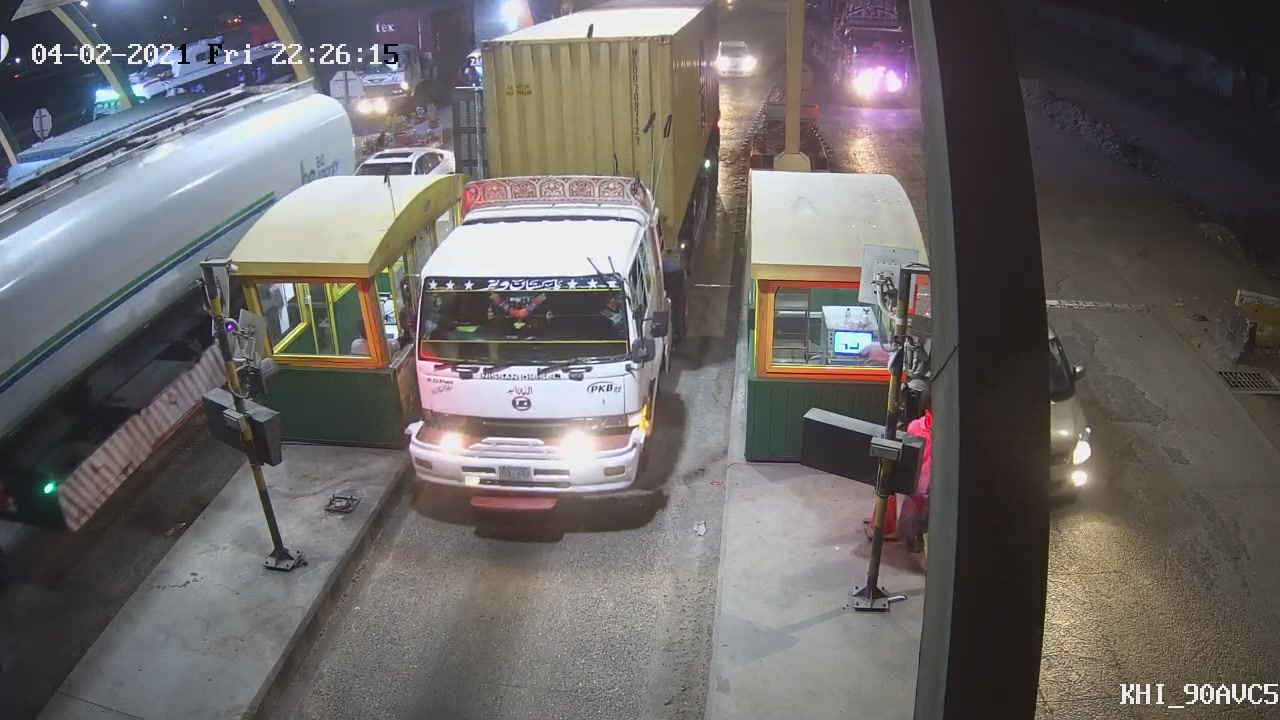F6: (396, 1, 725, 516)
